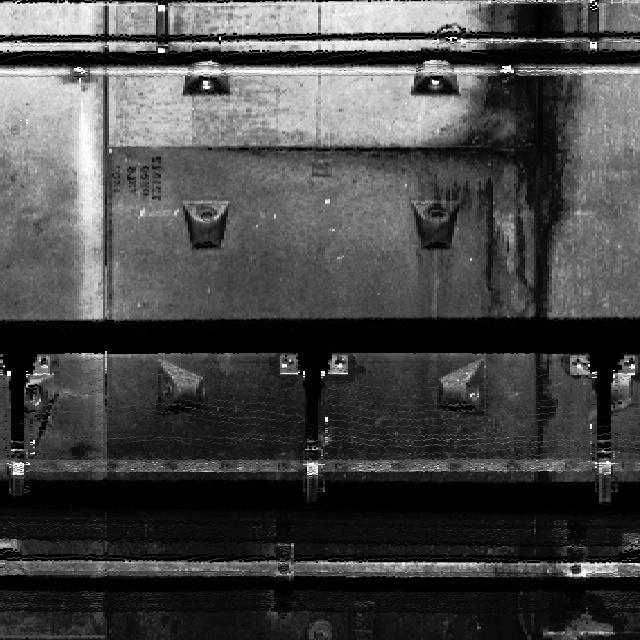leakage: (457, 0, 580, 323), (207, 120, 459, 197), (526, 350, 558, 463)
